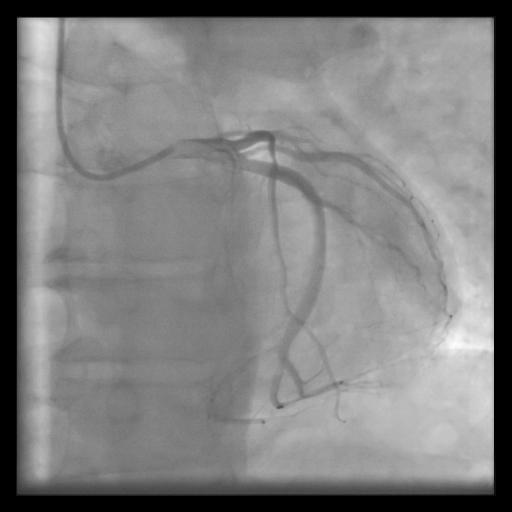Stenosis: (267, 140, 280, 177)
